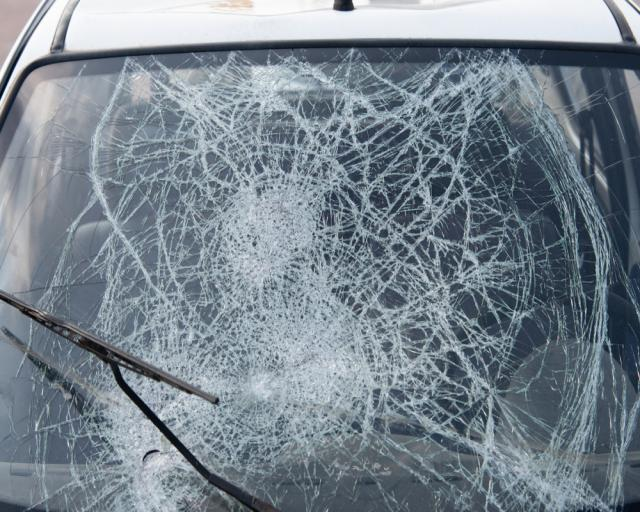glass shatter: (0, 45, 640, 512)
